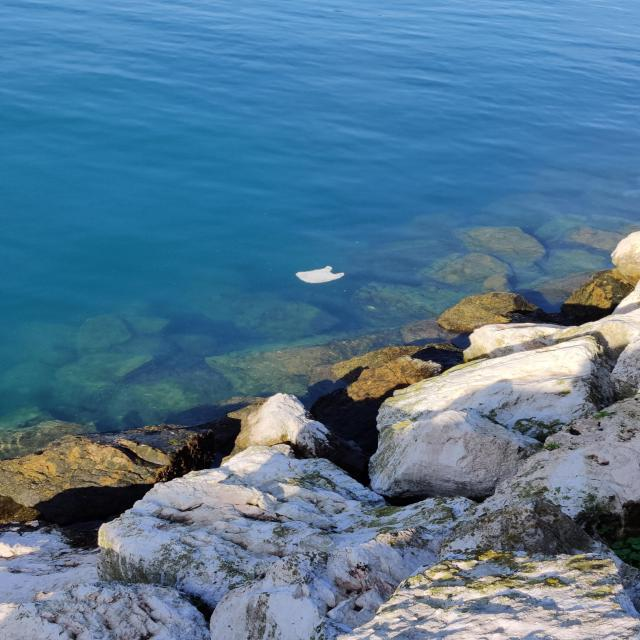litter: (271, 246, 367, 291)
